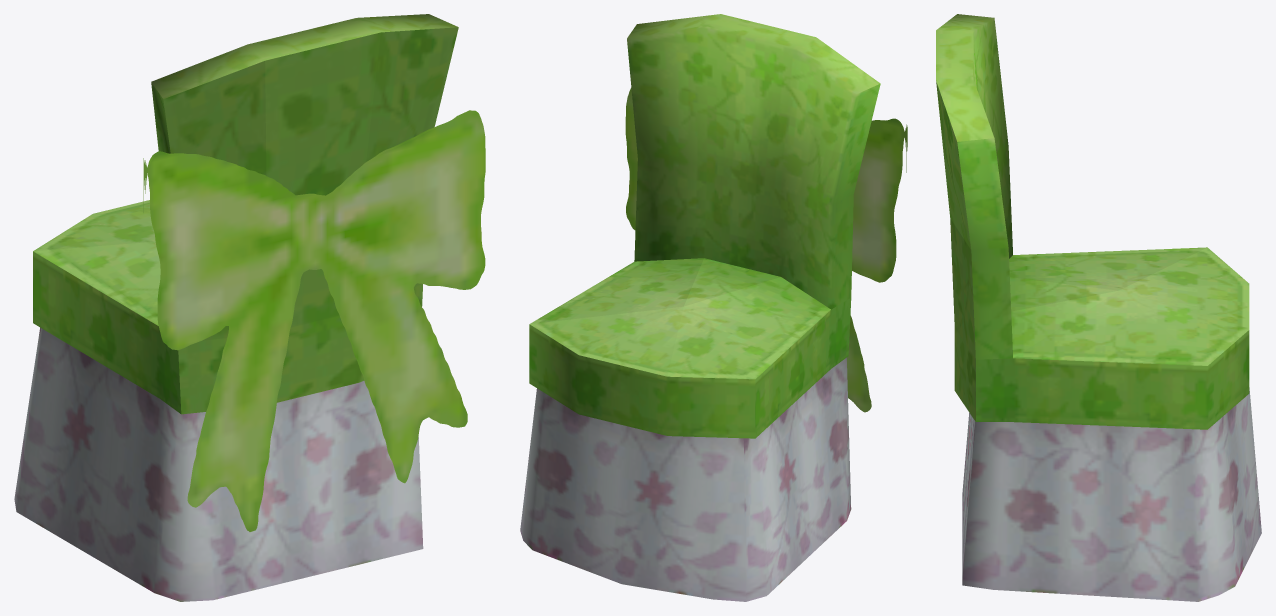
File: furni_0200036_02.FBX
3 views of the same model, side by side, from view 1: azimuth 30°, elevation 25°; view 2: azimuth 150°, elevation 25°; view 3: azimuth 270°, elevation 25° (orthographic). The views are drawn at different scales.
Visible parts, largest first — view 1: furni_0200036_02; view 2: furni_0200036_02; view 3: furni_0200036_02.
Part boxes in pixels (bbox=[...]): furni_0200036_02: bbox=[14, 14, 485, 601]; furni_0200036_02: bbox=[520, 14, 907, 601]; furni_0200036_02: bbox=[936, 14, 1261, 601].
Size of the model in its own units: 59.1 by 88.28 by 54.28.
1 material, 1 textured.
